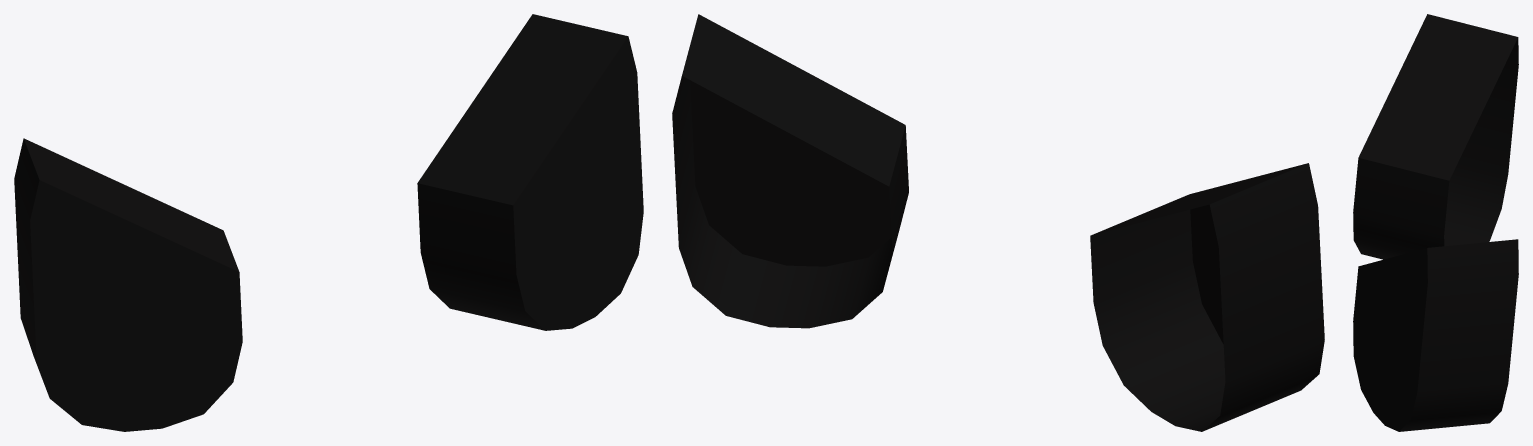
File: Eyes_D_Angry_01.fbx
The picture shows the model from 3 angles, left to right: view 1: azimuth 30°, elevation 25°; view 2: azimuth 150°, elevation 25°; view 3: azimuth 270°, elevation 25°; orthographic projection. The views are drawn at different scales.
Parts seen in each view (by area): view 1: Eyes_D_Angry_01; view 2: Eyes_D_Angry_01; view 3: Eyes_D_Angry_01.
Part boxes in pixels (<box>): Eyes_D_Angry_01: <box>14,14,643,431</box>; Eyes_D_Angry_01: <box>672,14,1324,431</box>; Eyes_D_Angry_01: <box>1353,14,1518,431</box>.
Bounding box in the file's own units: 55.37 × 22.33 × 16.08.
